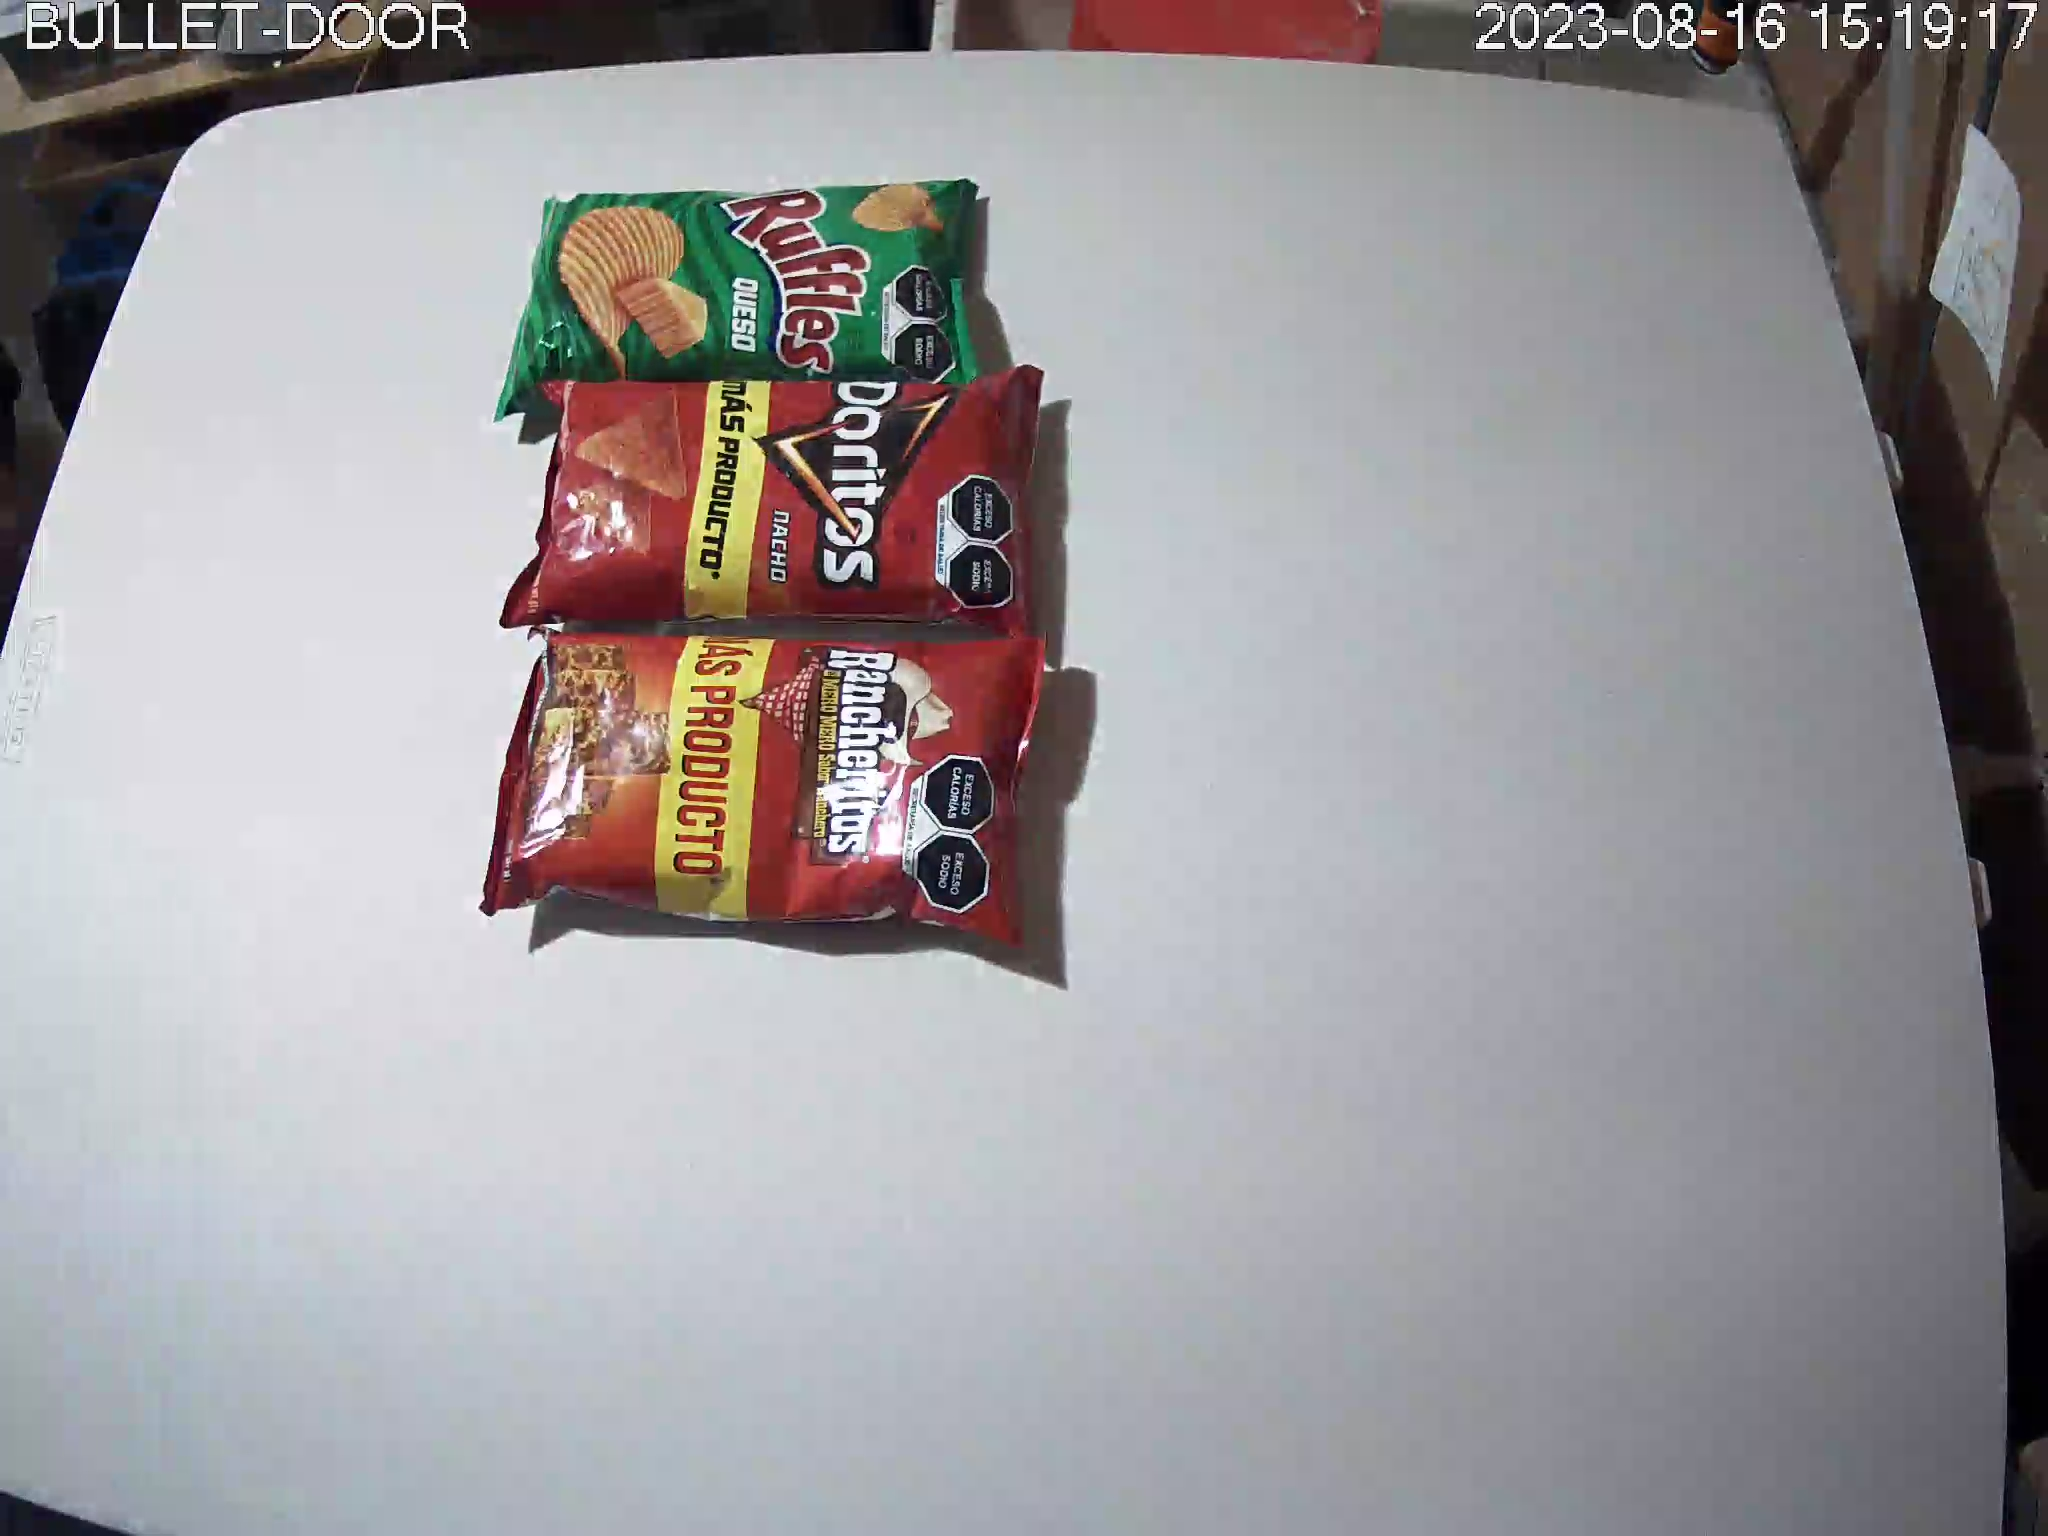DoritosN_61_F: (502, 363, 1045, 650)
Rancheritos_58_F: (477, 624, 1045, 957)
RufflesQ_48_F: (493, 177, 989, 424)
